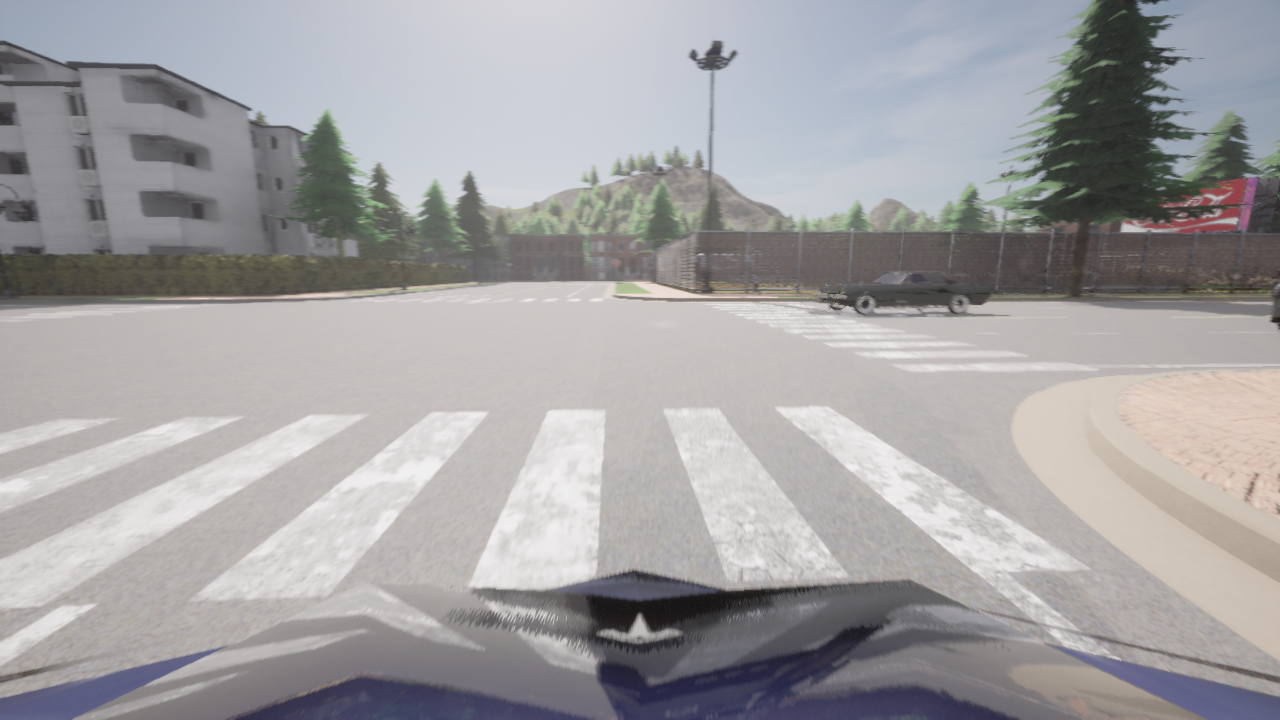cyclist: (0, 569, 1279, 719), (814, 270, 992, 315), (1269, 277, 1279, 330)
pedestrian: (751, 273, 760, 294)
